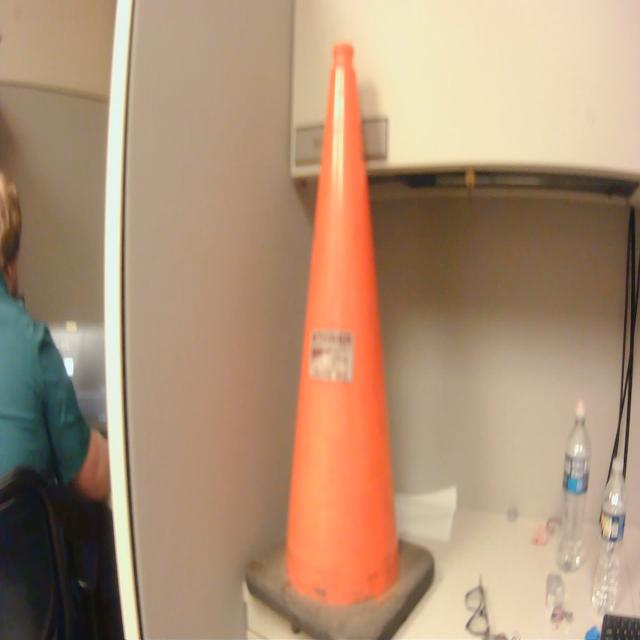traffic cone: (242, 34, 441, 640)
